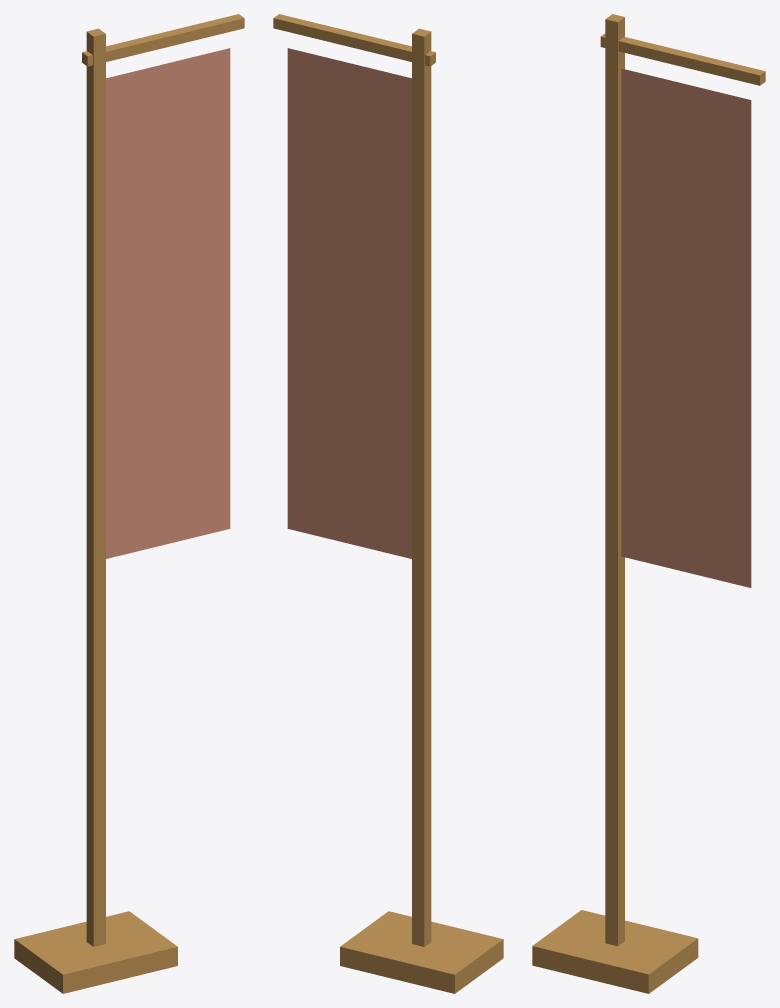
File: nobori_red.glb
The picture shows the model from 3 angles, left to right: view 1: azimuth 30°, elevation 25°; view 2: azimuth 150°, elevation 25°; view 3: azimuth 330°, elevation 25°; orthographic projection.
Parts seen in each view (by area): view 1: nobori_red; view 2: nobori_red; view 3: nobori_red.
Part boxes in pixels (x1,y1,x2,y2): nobori_red: (14, 14, 244, 993); nobori_red: (273, 14, 503, 993); nobori_red: (532, 14, 765, 993).
Size of the model in its own units: 0.1862 by 0.815 by 0.0773.
